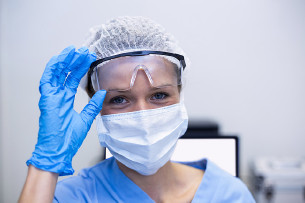face_mask: (99, 62, 179, 174)
